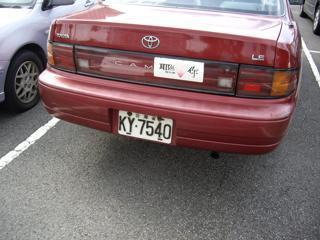plate: (116, 107, 174, 147)
